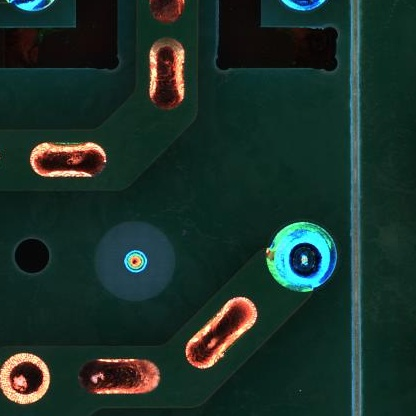spot: (267, 221, 338, 293)
